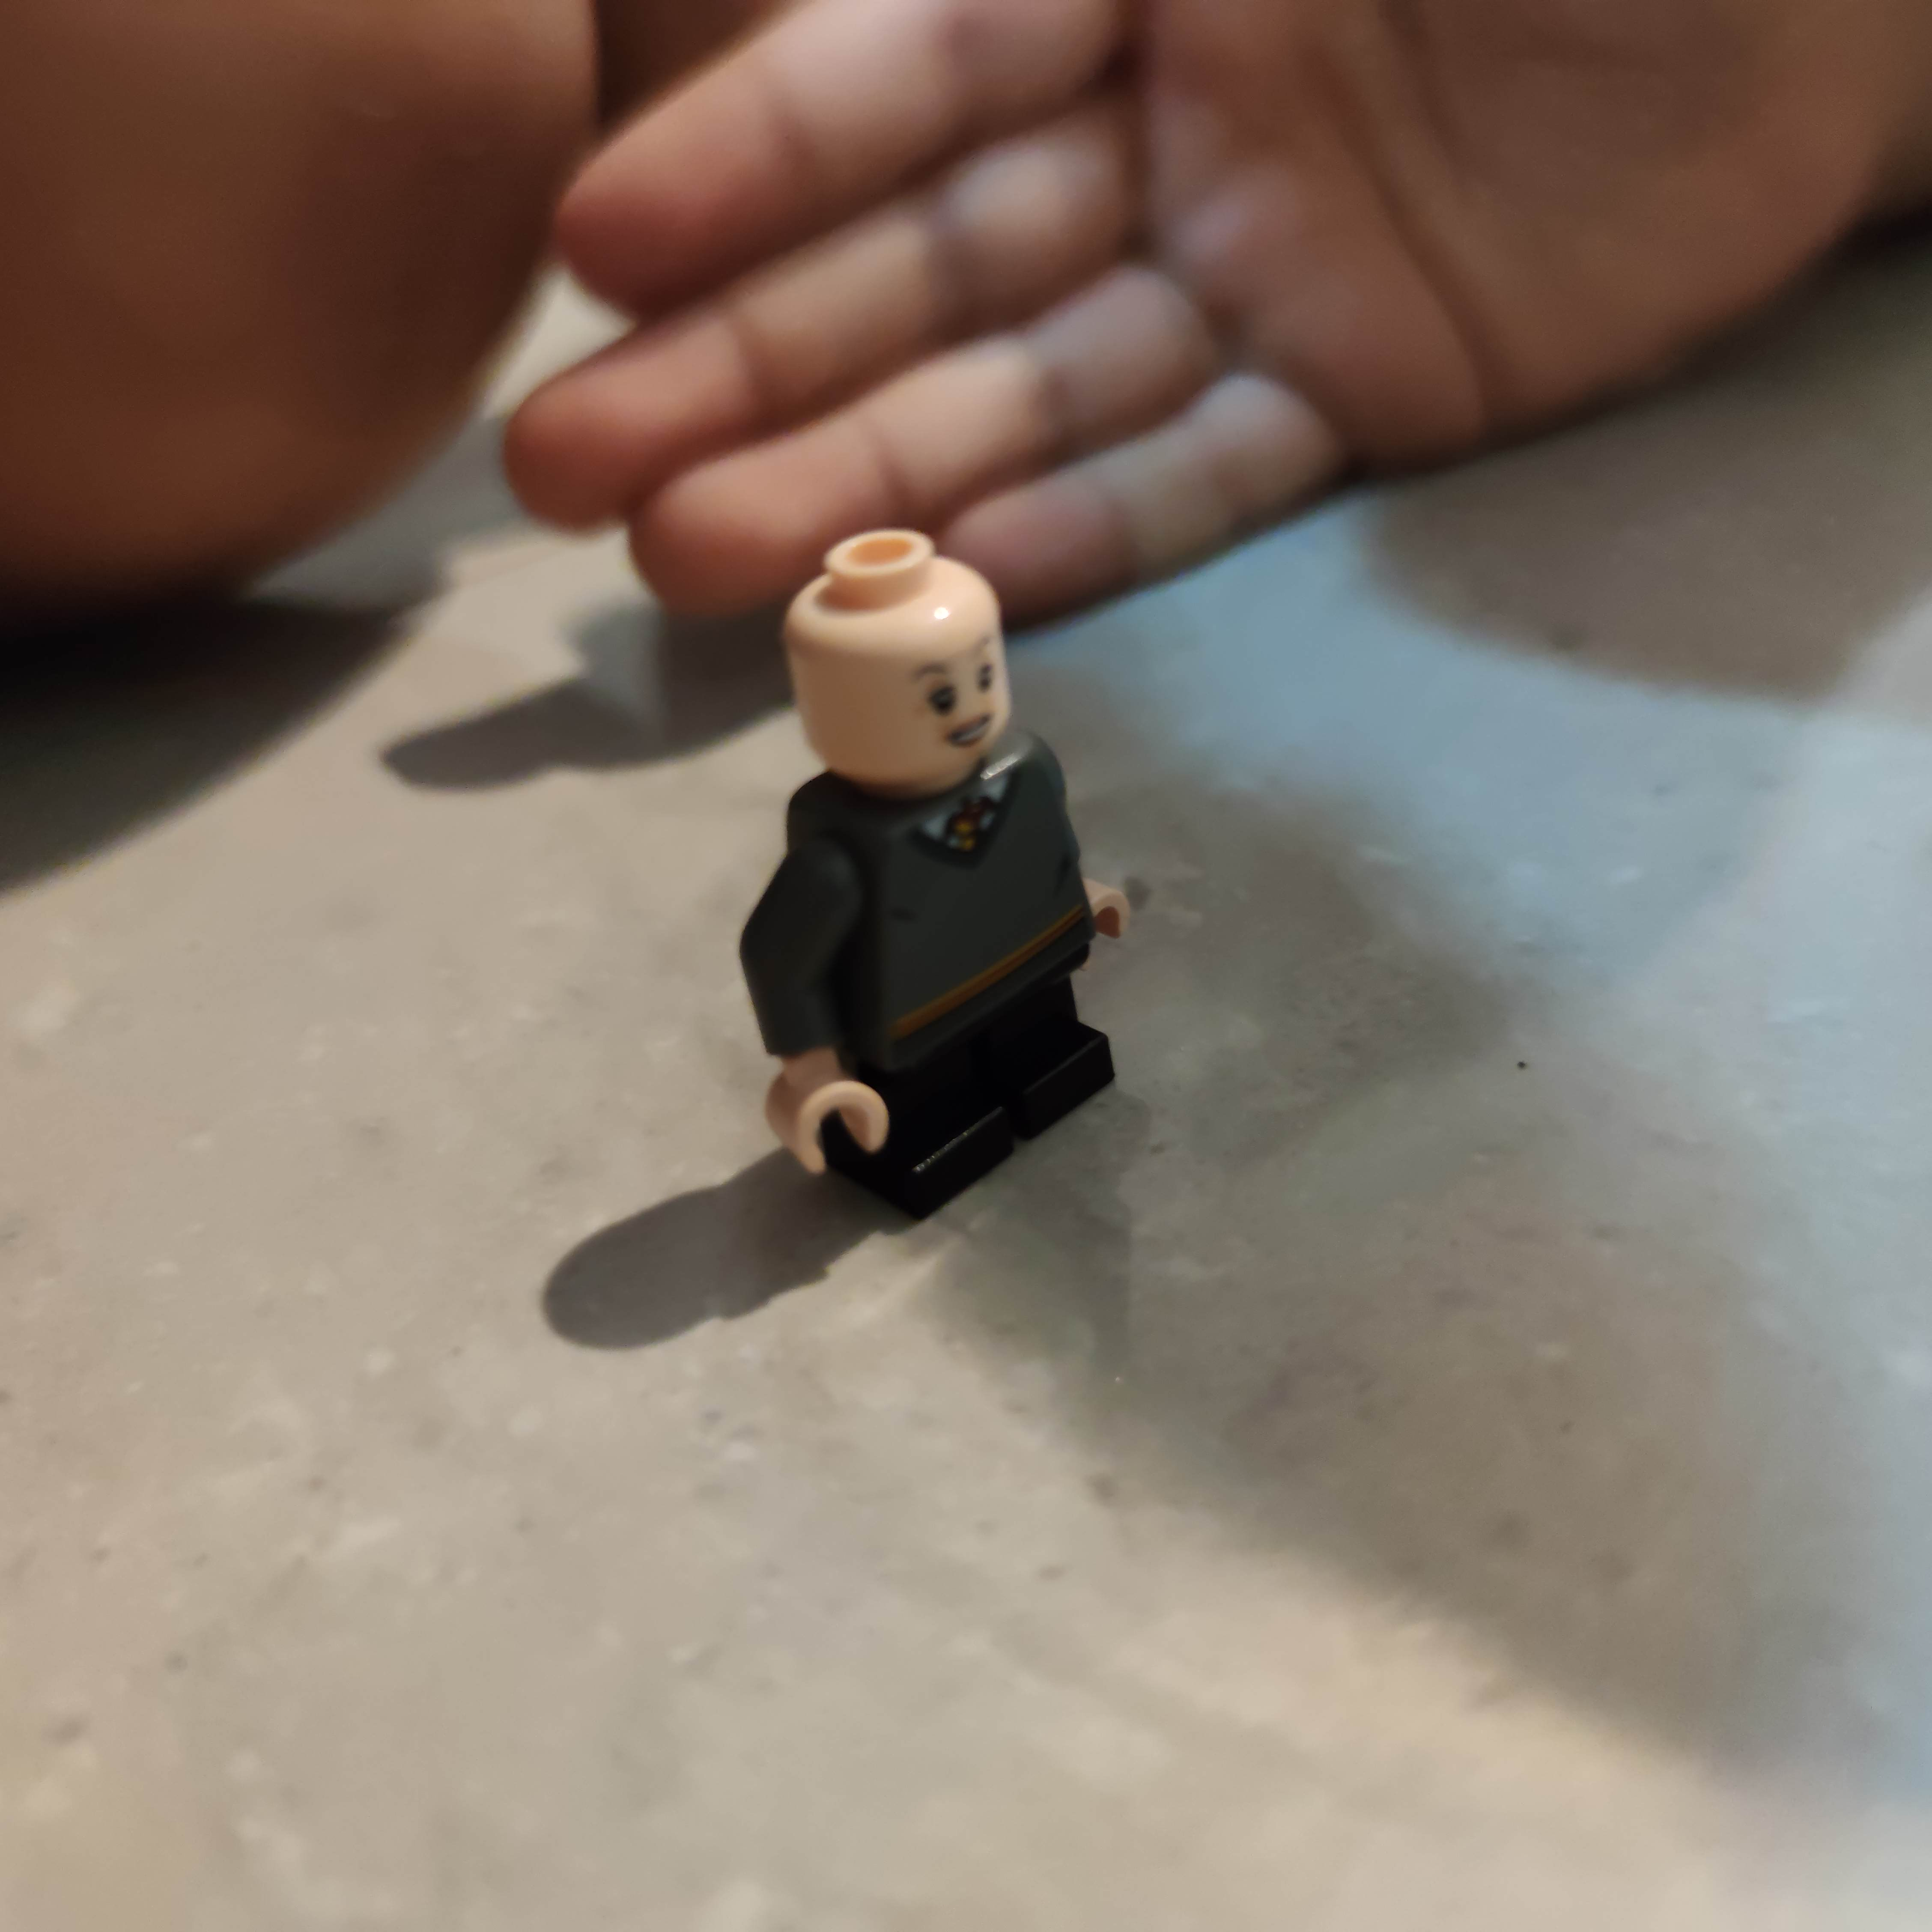lego: (738, 527, 1118, 1226)
